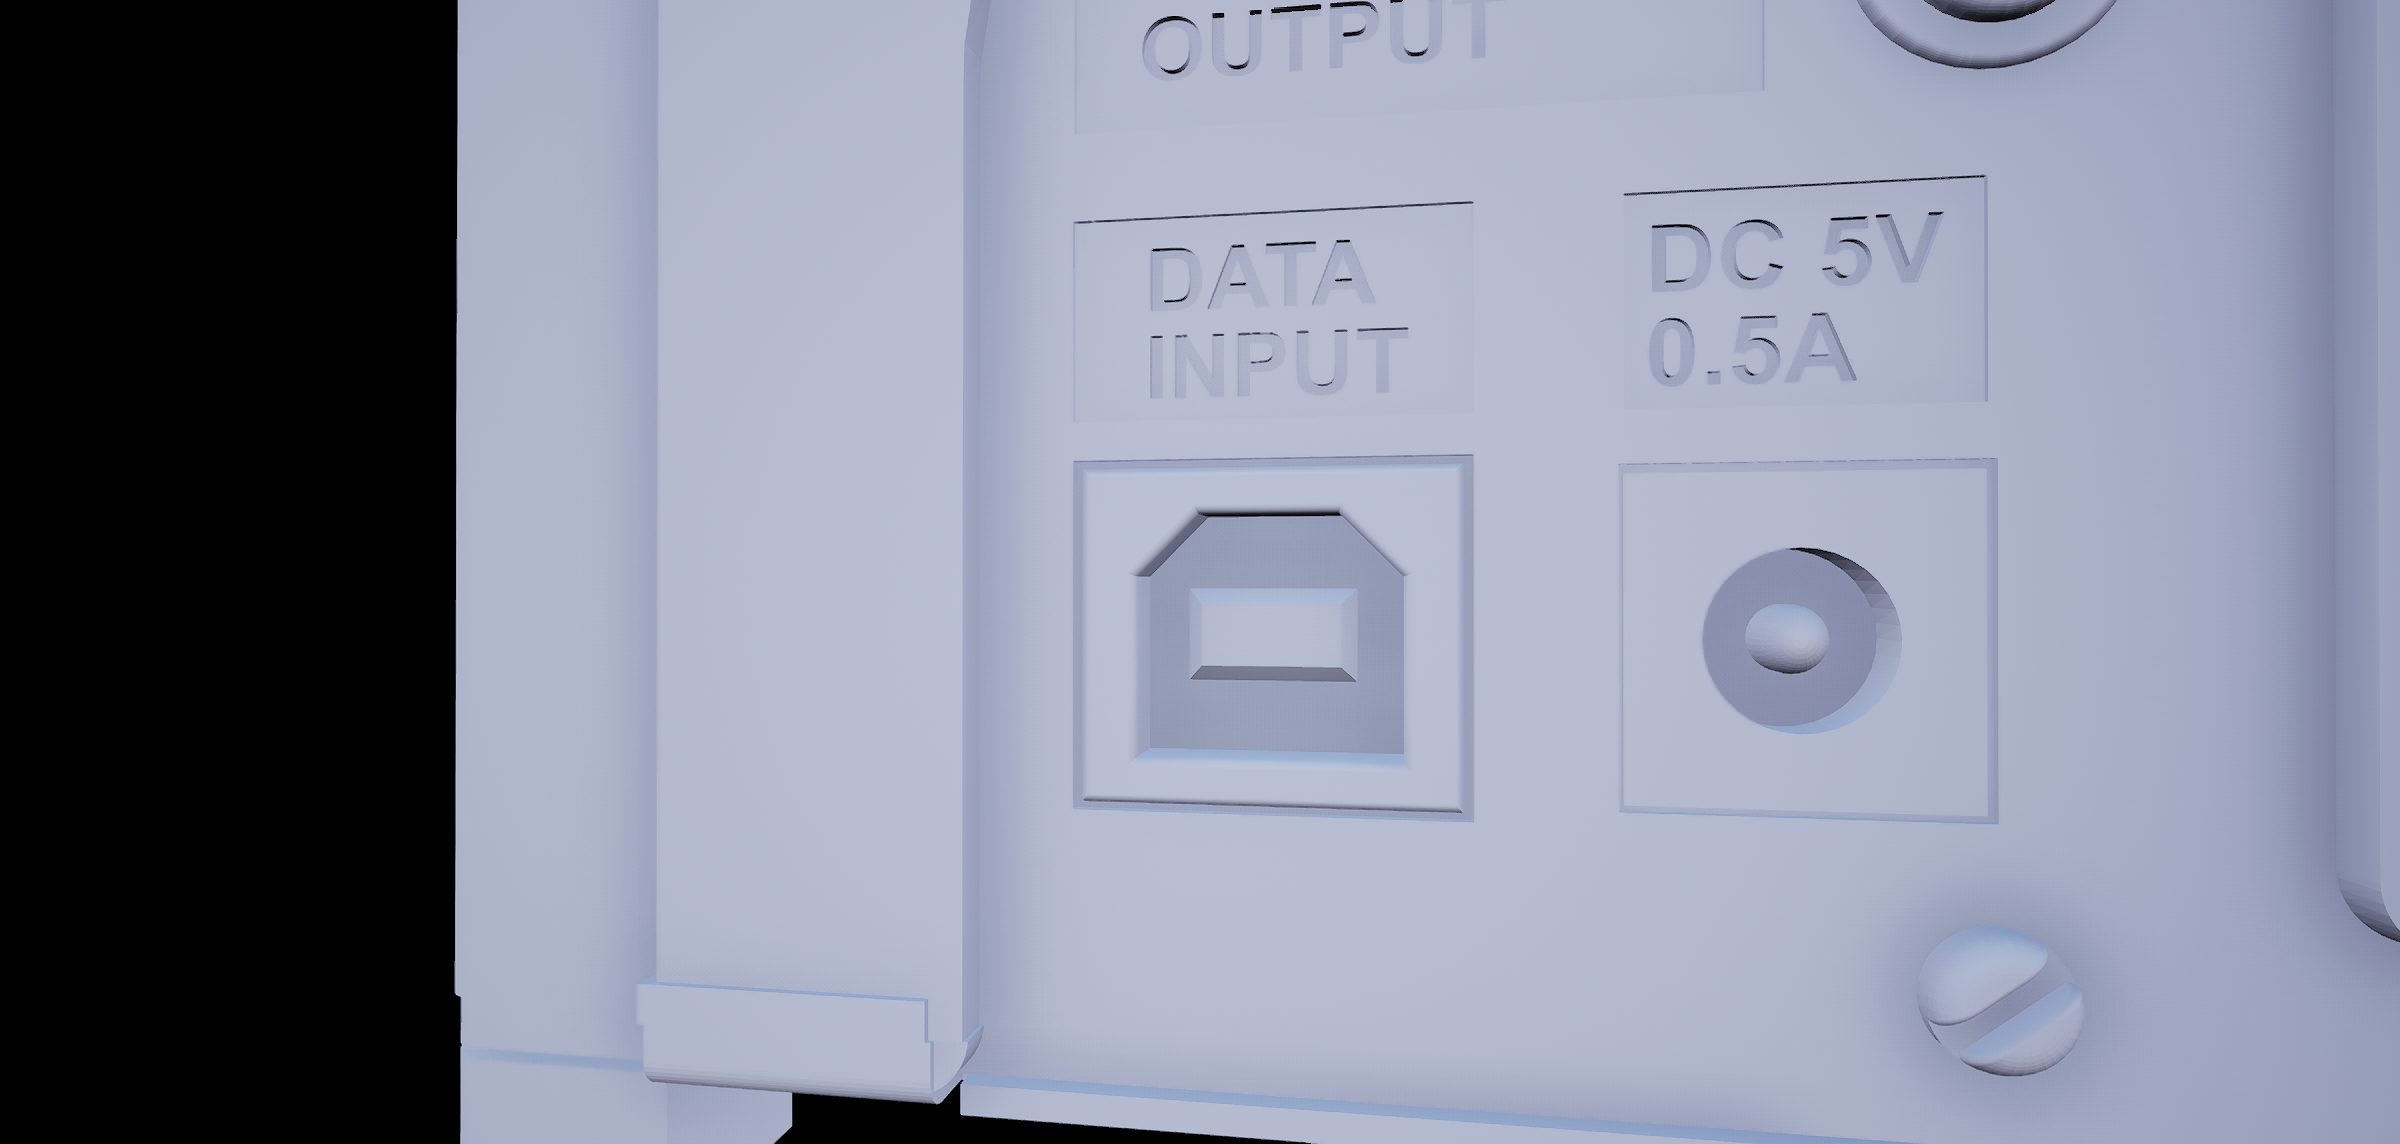aux: (1838, 2, 2129, 75)
dc: (1684, 524, 1932, 760)
usb: (1117, 490, 1427, 780)
